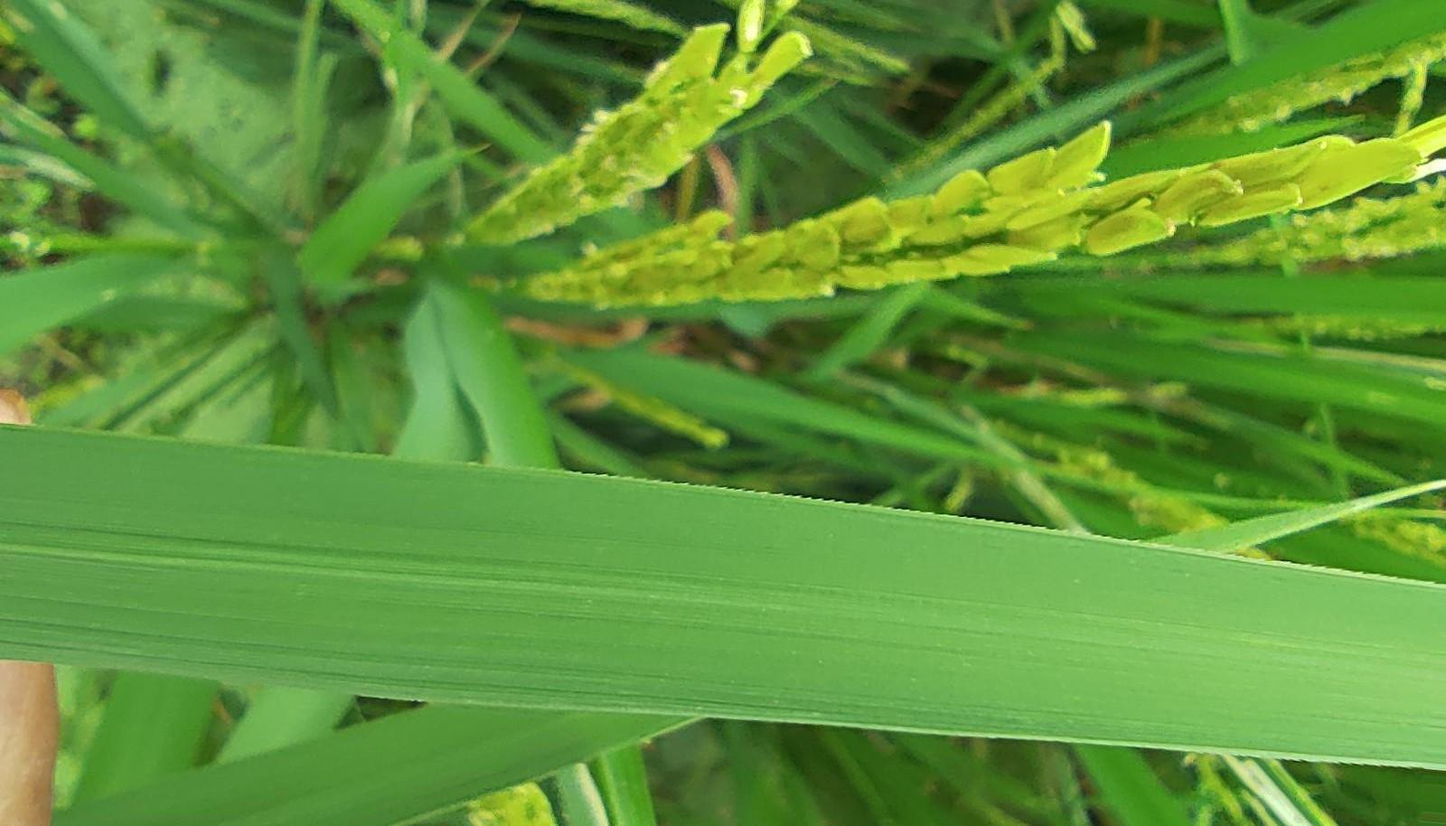Healthy: (1, 423, 1445, 768)
